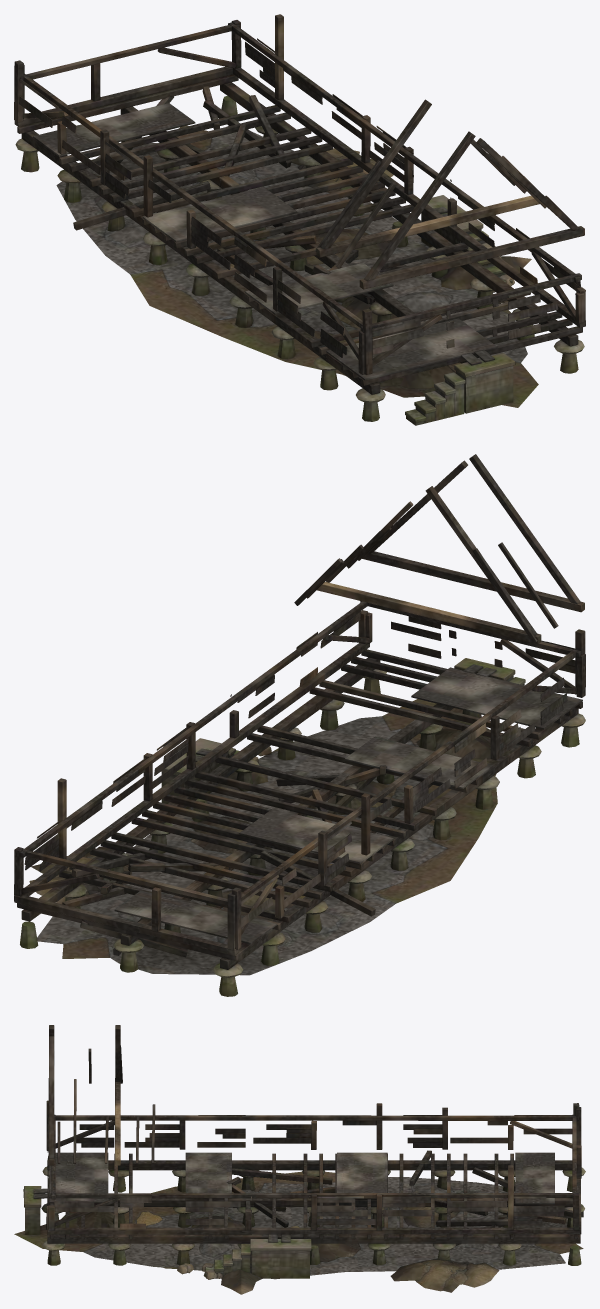
File: granary_ruin.glb
The picture shows the model from 3 angles, top to bottom: view 1: azimuth 30°, elevation 25°; view 2: azimuth 150°, elevation 25°; view 3: azimuth 270°, elevation 25°; orthographic projection. The views are drawn at different scales.
Parts seen in each view (by area): view 1: granary_ruin_LOD0; view 2: granary_ruin_LOD0; view 3: granary_ruin_LOD0.
Part boxes in pixels (x1=…): granary_ruin_LOD0: x1=14, y1=14, x2=585, y2=425; granary_ruin_LOD0: x1=14, y1=454, x2=585, y2=996; granary_ruin_LOD0: x1=14, y1=1025, x2=585, y2=1294.
Size of what is drawn, in the model's own units: 11.33 by 8.5 by 21.99.
1 material, 1 textured.
